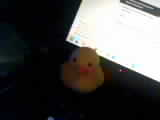duck: (55, 43, 103, 79)
